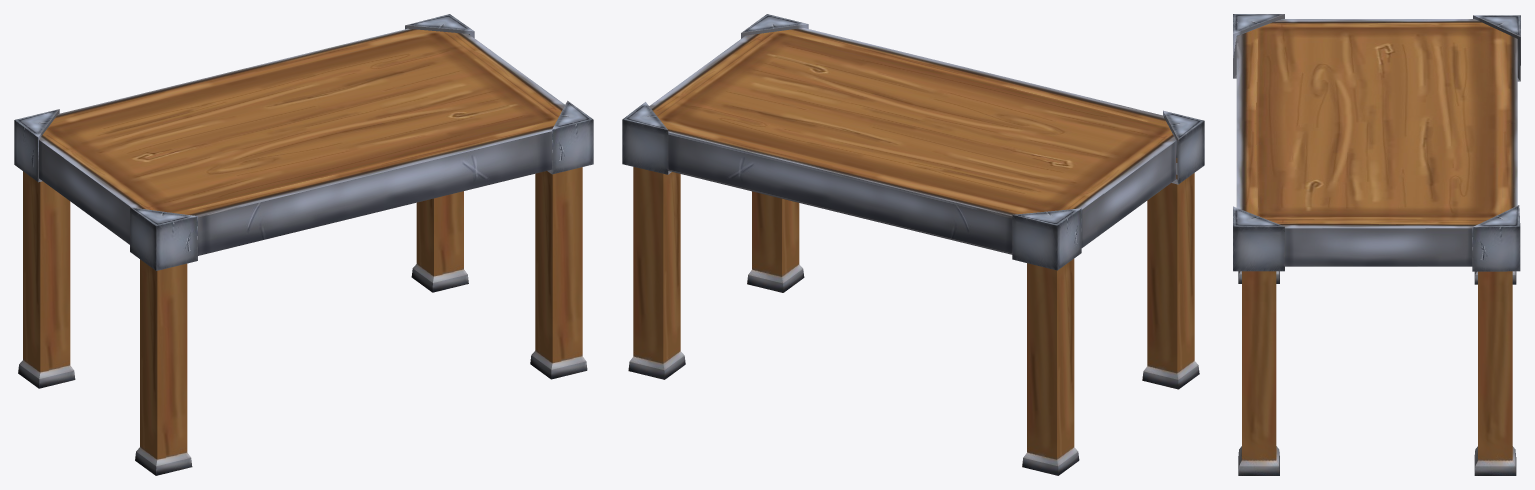
Rendered from mesaSkills.fbx.
3 renders of one model, left to right at view 1: azimuth 30°, elevation 25°; view 2: azimuth 150°, elevation 25°; view 3: azimuth 270°, elevation 25°, orthographic.
Visible parts, largest first — view 1: MesaAprimoramentos; view 2: MesaAprimoramentos; view 3: MesaAprimoramentos.
Boxes of the visible parts, x1,y1,x2,y2 form: MesaAprimoramentos: [14, 14, 593, 475]; MesaAprimoramentos: [622, 14, 1204, 475]; MesaAprimoramentos: [1233, 14, 1520, 475].
Bounding box in the file's own units: 1503 × 826 × 857.
